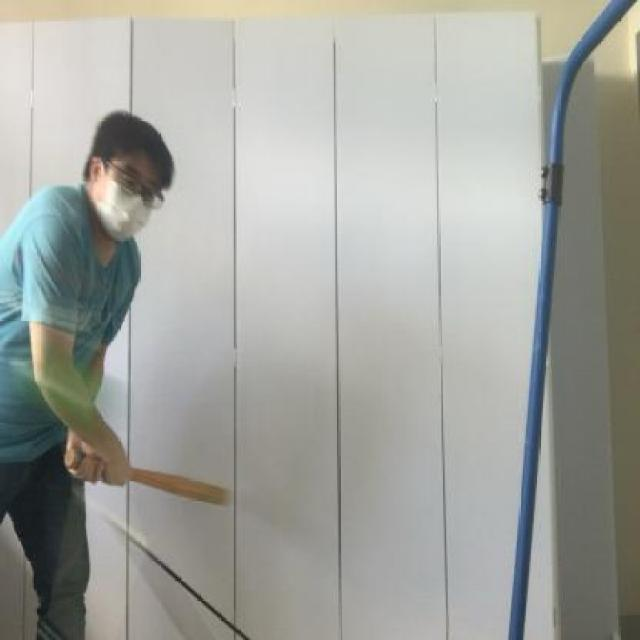baseball: (0, 310, 142, 462)
